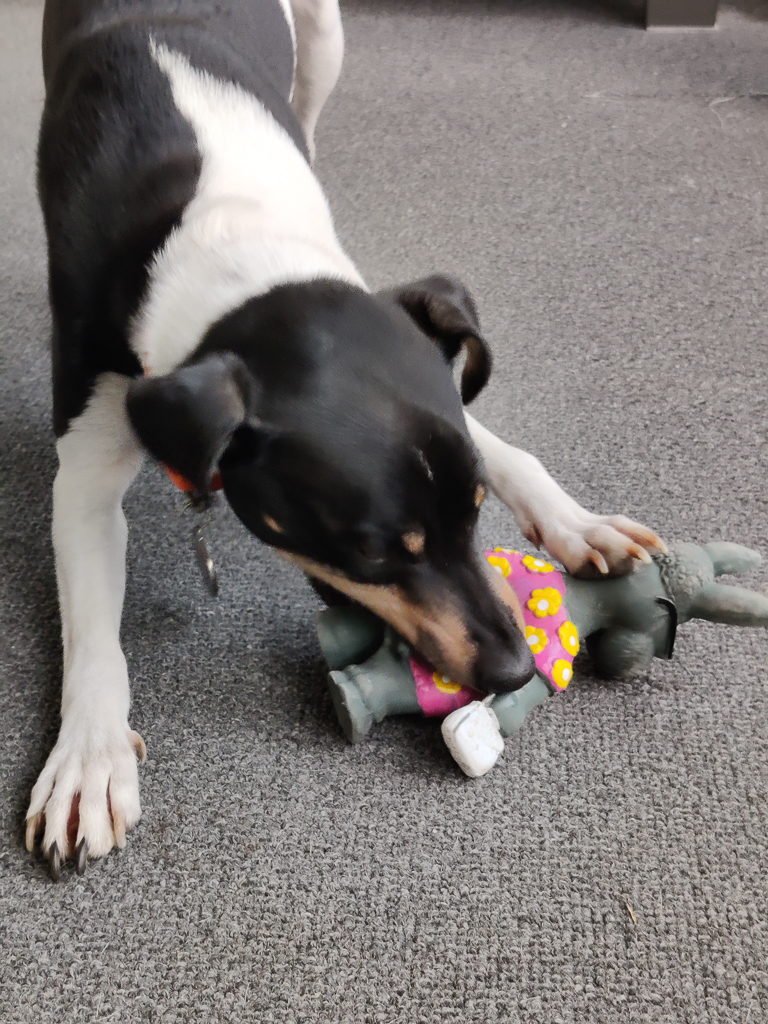Dog: (16, 0, 700, 893)
Humanoid: (284, 508, 768, 791)
